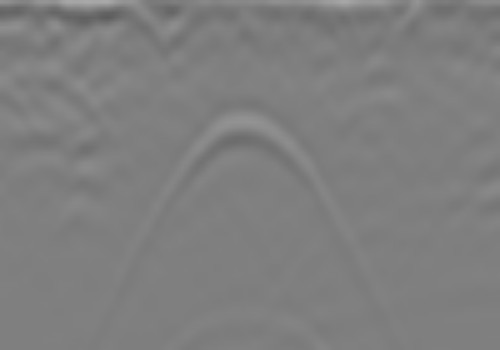hyperbola: (150, 90, 336, 328)
